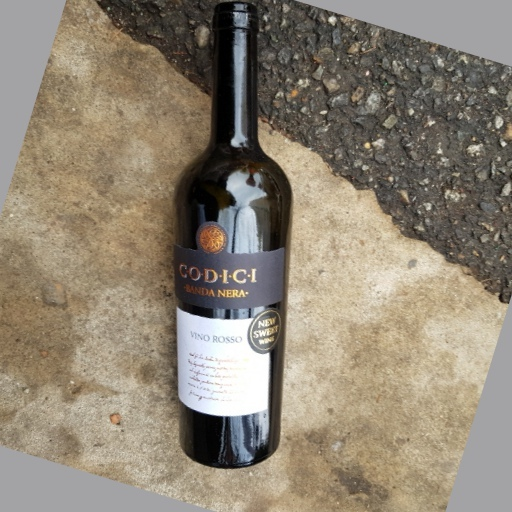Glass_2: (174, 1, 290, 474)
